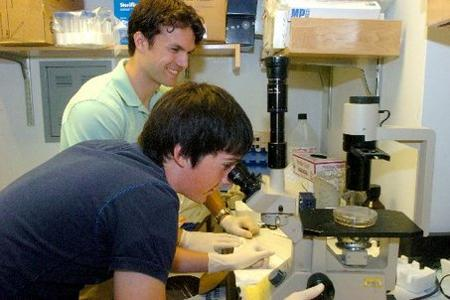person: (2, 81, 324, 299)
